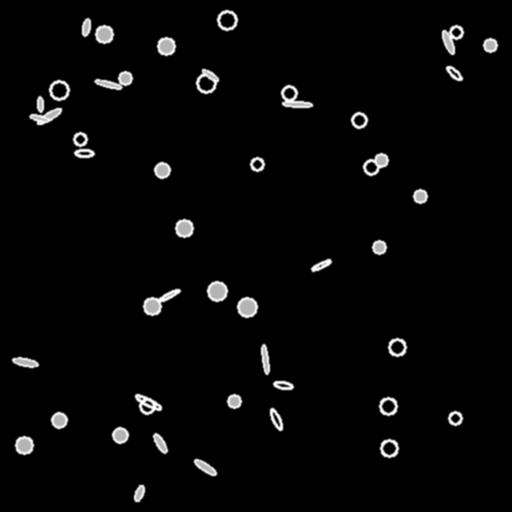pseudomonas: (36, 106, 62, 126), (134, 393, 162, 411), (193, 457, 217, 477), (440, 30, 456, 54), (158, 287, 180, 303), (268, 408, 284, 430), (445, 64, 463, 82), (152, 433, 168, 453), (95, 78, 121, 90), (12, 356, 38, 368), (310, 258, 332, 272), (201, 68, 219, 82), (261, 344, 269, 374), (133, 484, 145, 502), (282, 101, 312, 107), (30, 113, 48, 123), (81, 18, 91, 36), (274, 380, 292, 390), (75, 150, 93, 156), (37, 96, 43, 112)
synechocystis: (218, 11, 236, 29), (208, 282, 226, 300), (197, 74, 215, 92), (50, 81, 68, 99), (238, 298, 256, 316), (96, 26, 112, 42), (176, 220, 192, 236), (16, 437, 32, 453), (381, 440, 397, 456), (158, 38, 174, 54), (389, 339, 405, 355), (380, 398, 396, 414), (144, 298, 160, 314), (364, 160, 378, 174), (352, 113, 366, 127), (282, 86, 296, 100), (113, 428, 127, 442), (52, 413, 66, 427), (155, 163, 169, 177), (140, 399, 154, 413), (228, 395, 240, 407), (484, 39, 496, 51), (449, 412, 461, 424), (375, 154, 387, 166), (251, 158, 263, 170), (414, 190, 426, 202), (74, 133, 86, 145), (119, 72, 131, 84), (450, 26, 462, 38), (373, 241, 385, 253)
